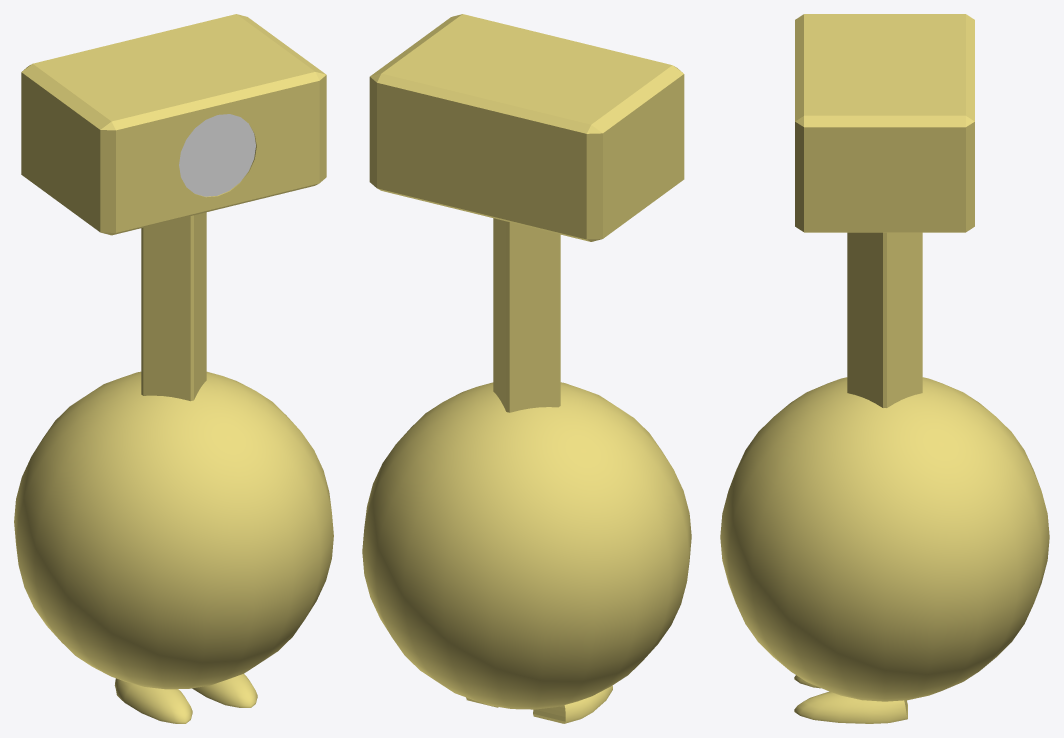
Rendered from friend4.fbx.
3 renders of one model, left to right at view 1: azimuth 30°, elevation 25°; view 2: azimuth 150°, elevation 25°; view 3: azimuth 270°, elevation 25°, orthographic. The views are drawn at different scales.
Visible parts, largest first — view 1: pSphere12, pCube5, pSphere5, pSphere3; view 2: pSphere12, pCube5, pSphere5; view 3: pSphere12, pCube5, pSphere3.
Boxes of the visible parts, x1,y1,x2,y2 form: pSphere12: (14, 371, 333, 689); pCube5: (21, 14, 326, 401); pSphere5: (114, 678, 192, 723); pSphere3: (192, 673, 257, 707); pSphere12: (362, 382, 691, 709); pCube5: (369, 14, 684, 412); pSphere5: (533, 685, 612, 723); pSphere12: (720, 377, 1049, 701); pCube5: (795, 14, 974, 407); pSphere3: (794, 691, 907, 723).
Size of the model in its own units: 4.29 by 9.06 by 4.29.
